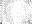person: (28, 9, 31, 13)
